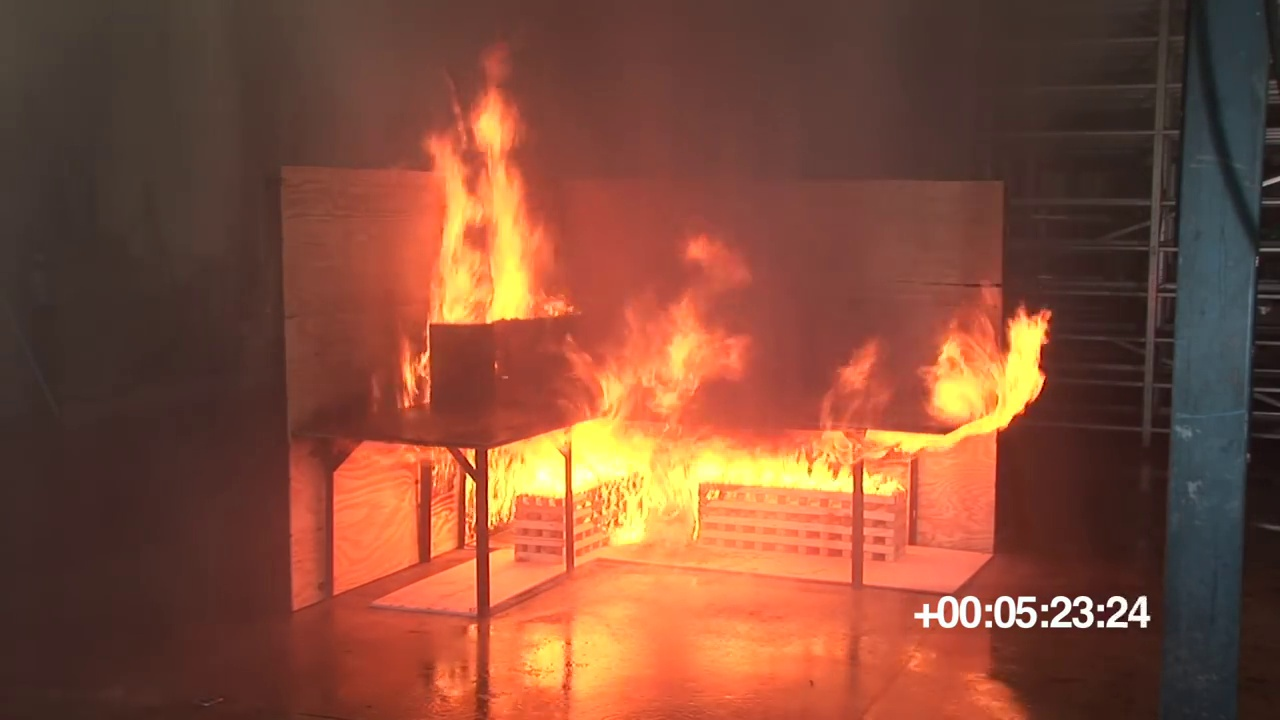fire: (494, 430, 904, 500), (431, 51, 535, 319), (615, 235, 755, 400), (925, 301, 1050, 426), (821, 340, 892, 428), (395, 335, 424, 409), (609, 502, 650, 547)
